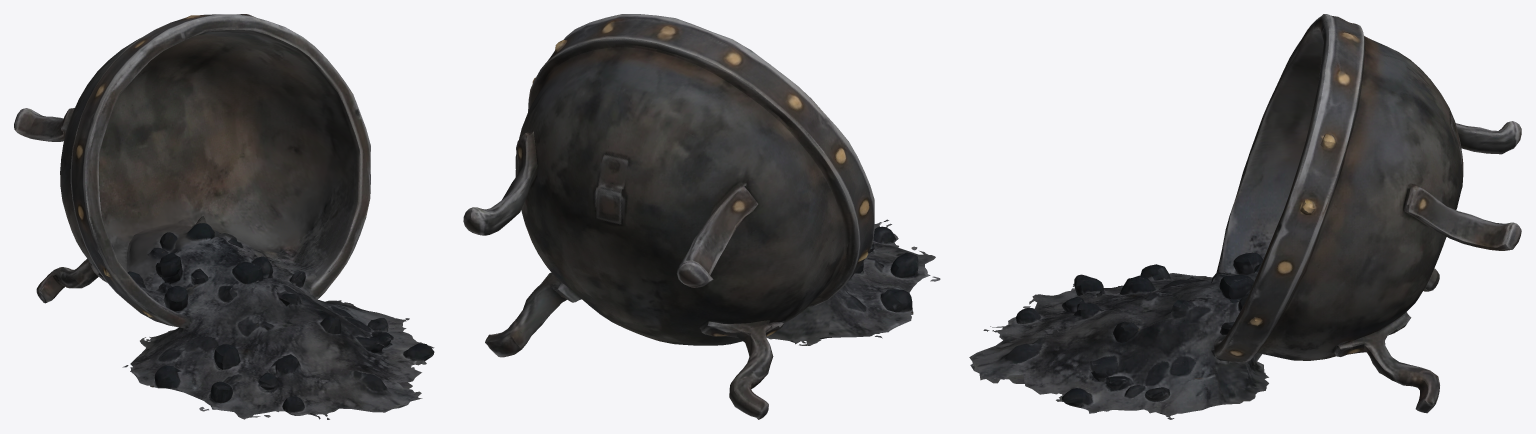
File: tipped_signal_brazier.glb
3 views of the same model, side by side, from view 1: azimuth 30°, elevation 25°; view 2: azimuth 150°, elevation 25°; view 3: azimuth 270°, elevation 25° (orthographic). The views are drawn at different scales.
Parts seen in each view (by area): view 1: Mesh_0; view 2: Mesh_0; view 3: Mesh_0.
Part boxes in pixels (bbox=[...]): Mesh_0: bbox=[14, 14, 434, 419]; Mesh_0: bbox=[463, 14, 940, 419]; Mesh_0: bbox=[969, 14, 1521, 419].
Bounding box in the file's own units: 1.24 × 1.21 × 1.88.
1 material, 1 textured.
